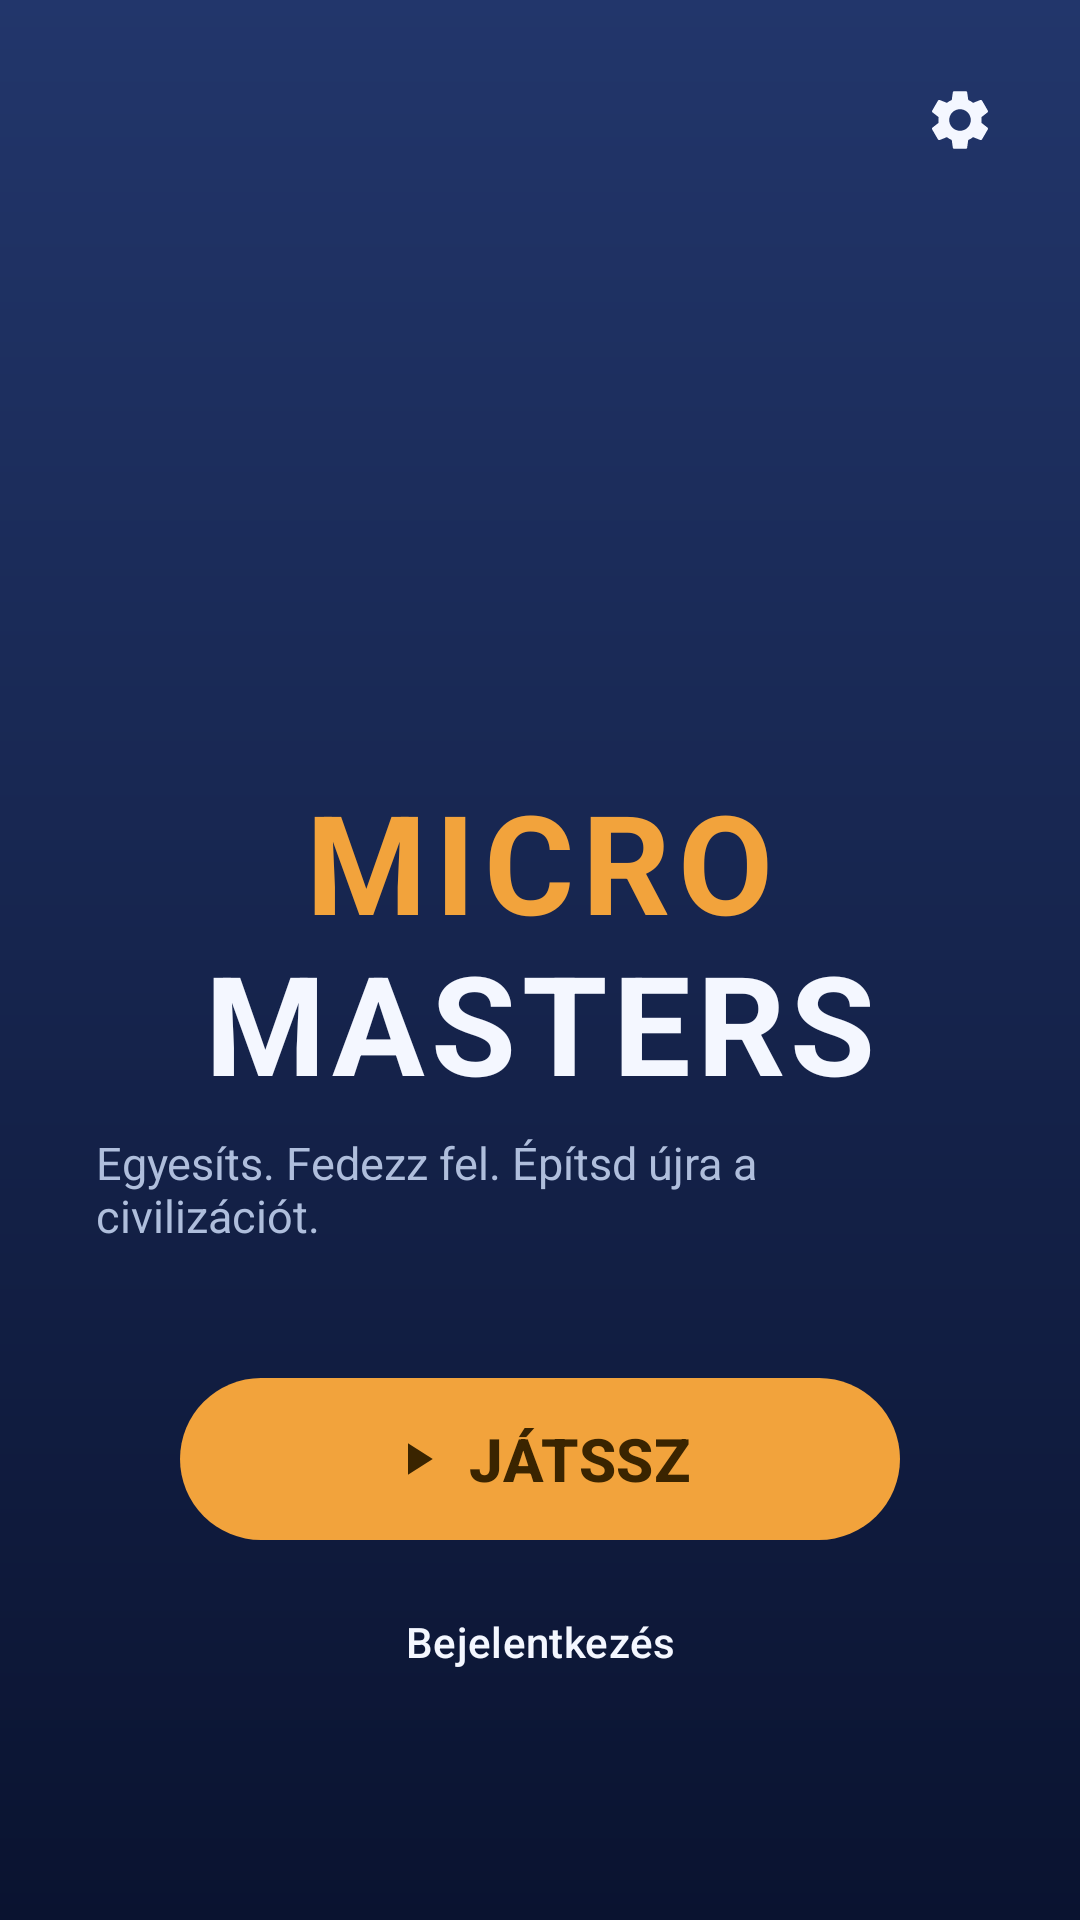

Icons on this 1080 x 1920 Android screen, each with its box as (x1, y1, x2, y2):
Beállítások: (932, 91, 988, 149)
